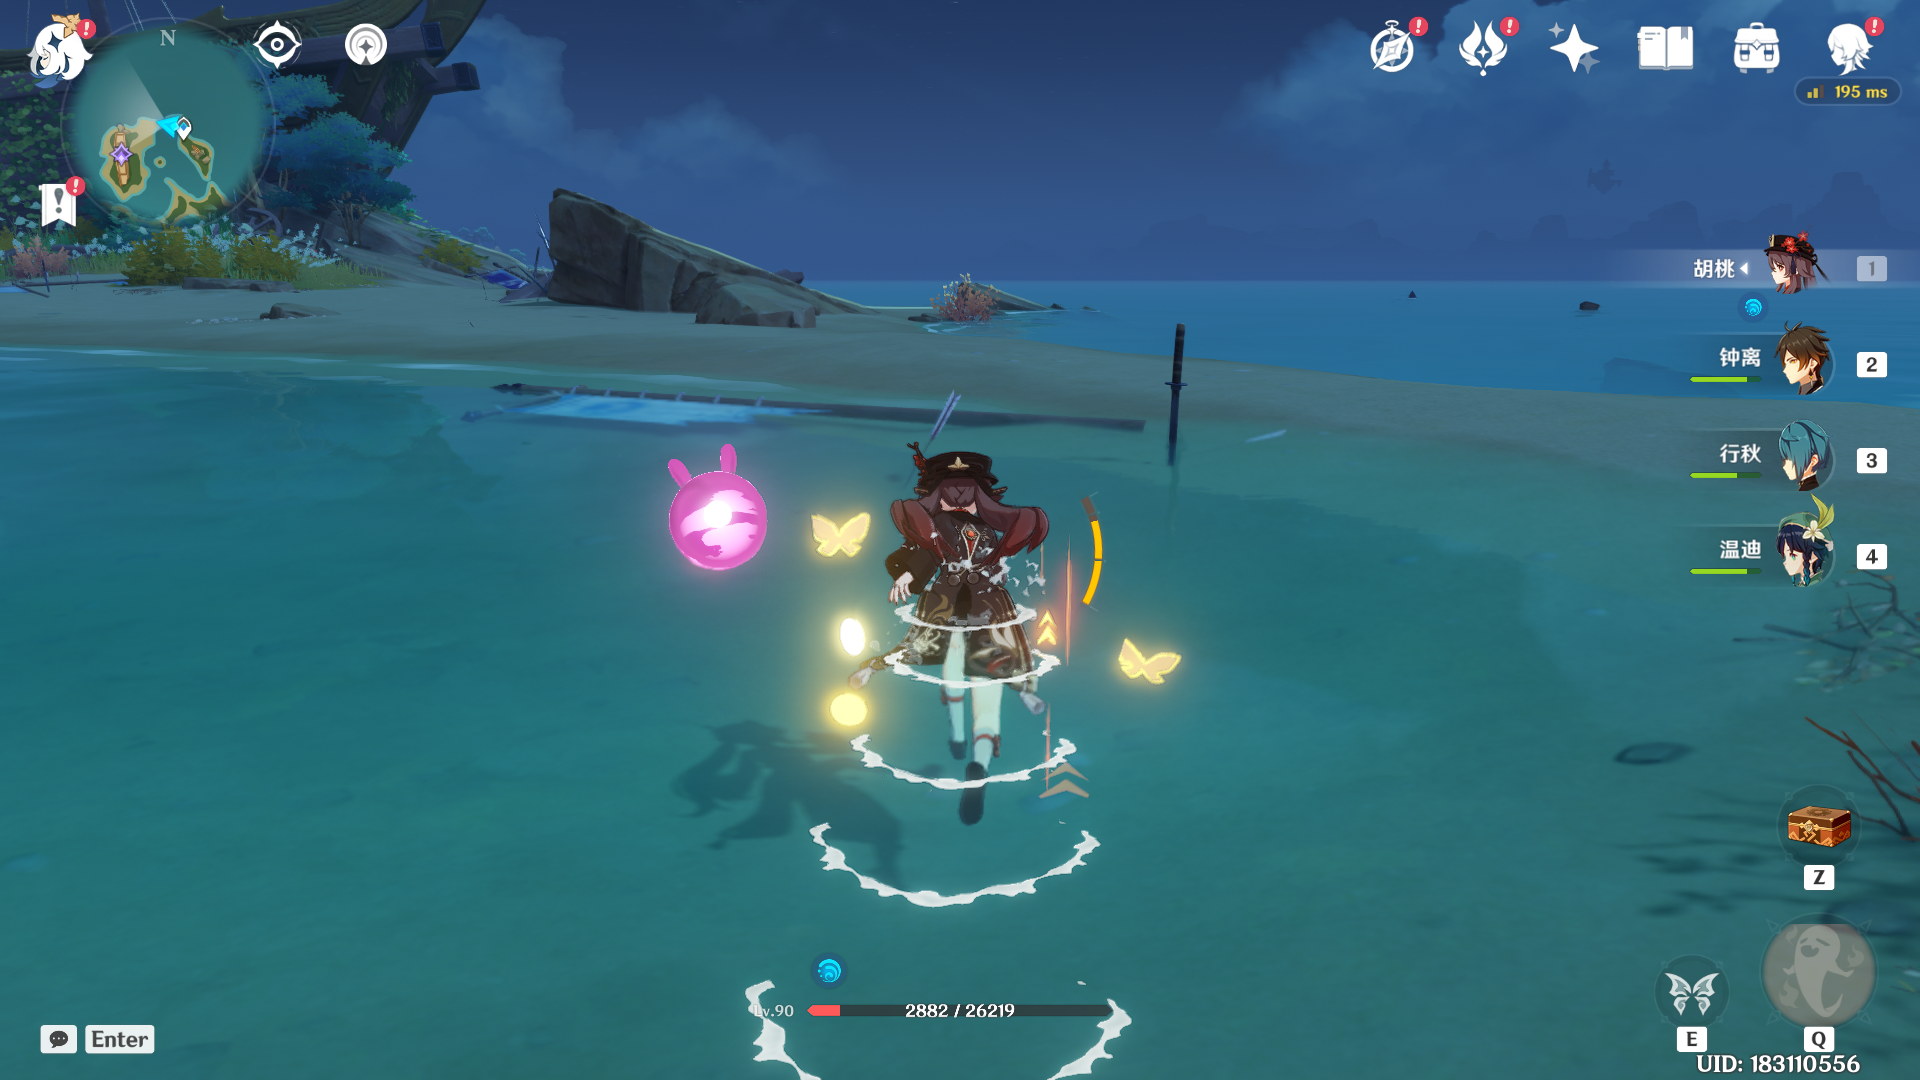character: (822, 409, 1124, 857)
